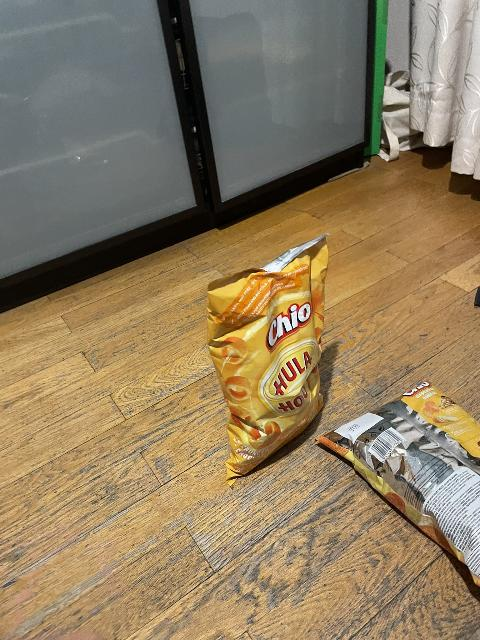Chio Cascaval 125g: (322, 376, 476, 598)
Chio Hula Hoops Cheese 70g: (204, 235, 328, 467)
